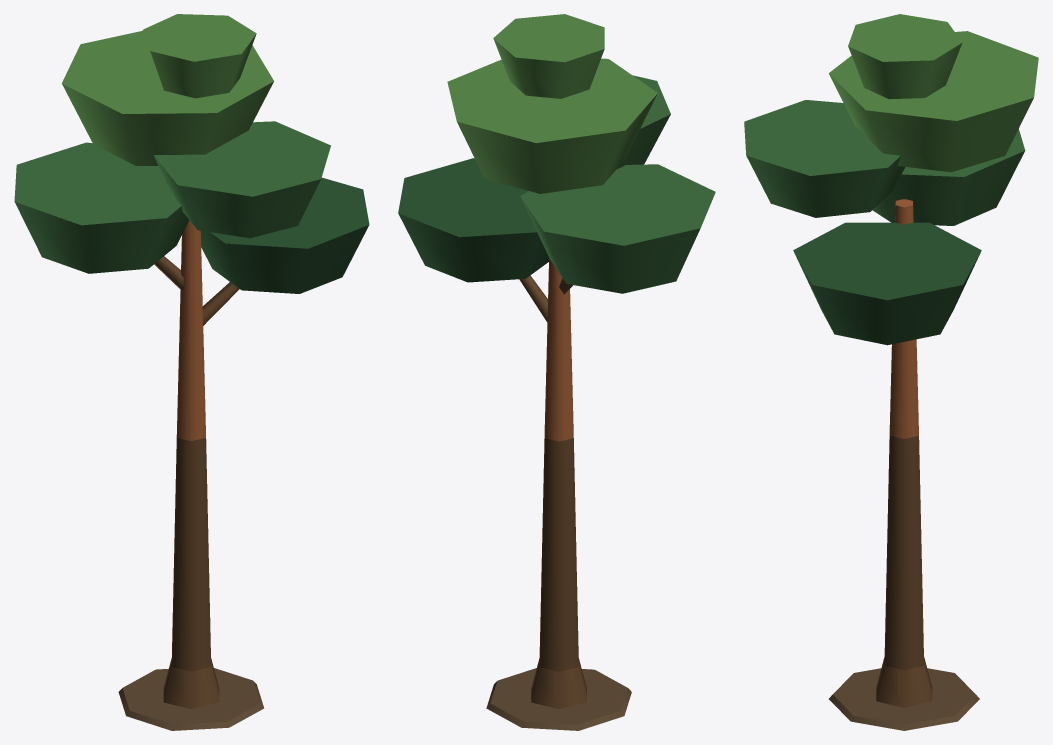
The model's file is pine.glb.
3 renders of one model, left to right at view 1: azimuth 30°, elevation 25°; view 2: azimuth 150°, elevation 25°; view 3: azimuth 270°, elevation 25°, orthographic.
Parts seen in each view (by area): view 1: pine; view 2: pine; view 3: pine.
Part boxes in pixels (x1,y1,x2,y2): pine: (14, 14, 369, 730); pine: (398, 14, 715, 730); pine: (744, 14, 1038, 730).
Bounding box in the file's own units: 4.44 × 8.7 × 3.5.
1 material, 1 textured.
